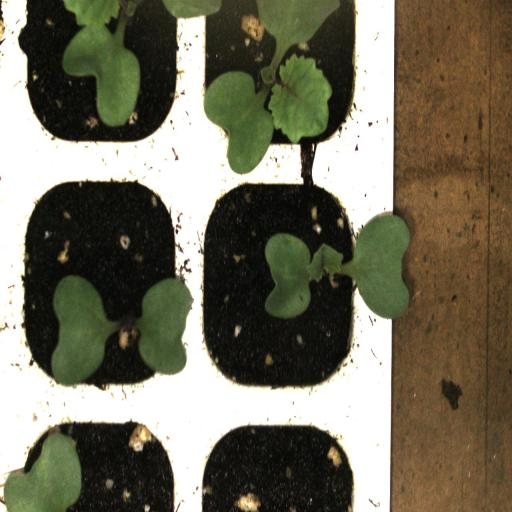seedling: (17, 158, 191, 401), (193, 165, 366, 403), (14, 0, 196, 154), (192, 4, 365, 158)
